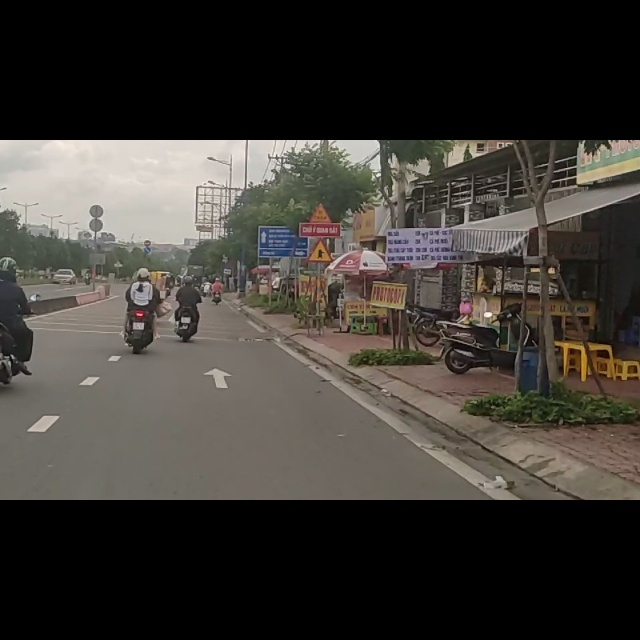bien_nguy_hiem: (306, 173, 335, 219)
